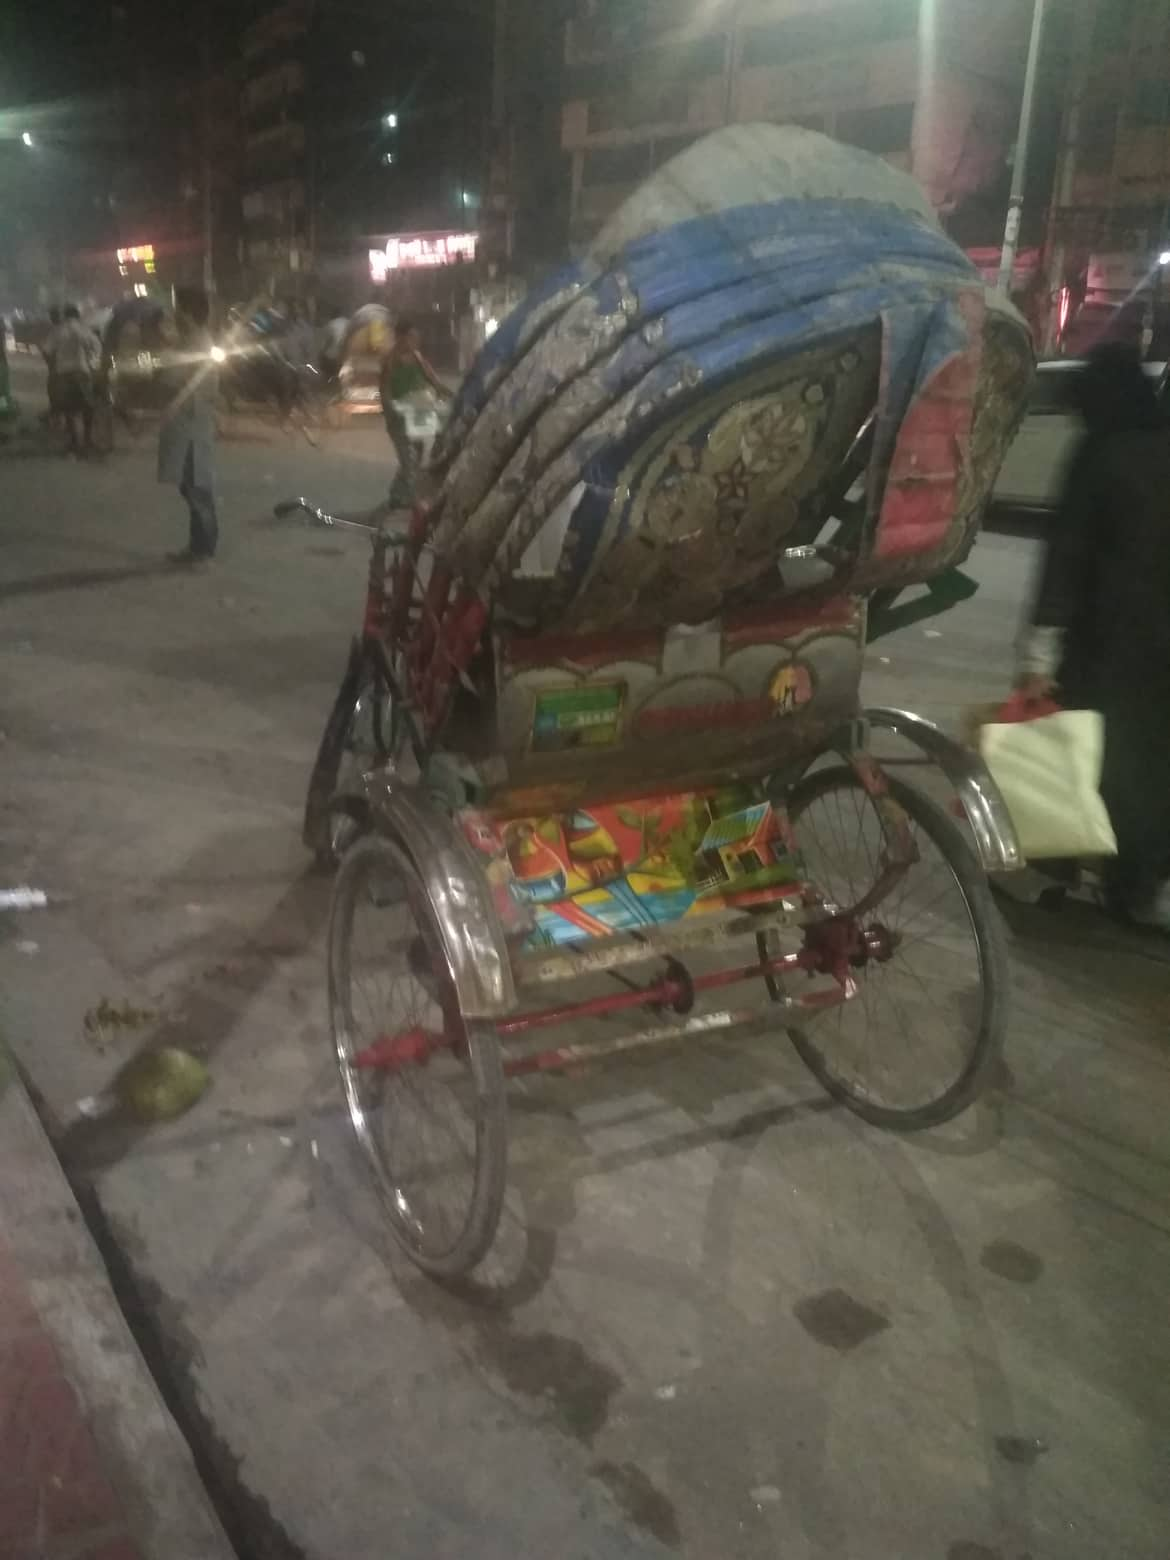Rickshaw: (331, 112, 1046, 1252), (63, 258, 195, 467), (221, 294, 327, 430), (331, 260, 412, 425)
